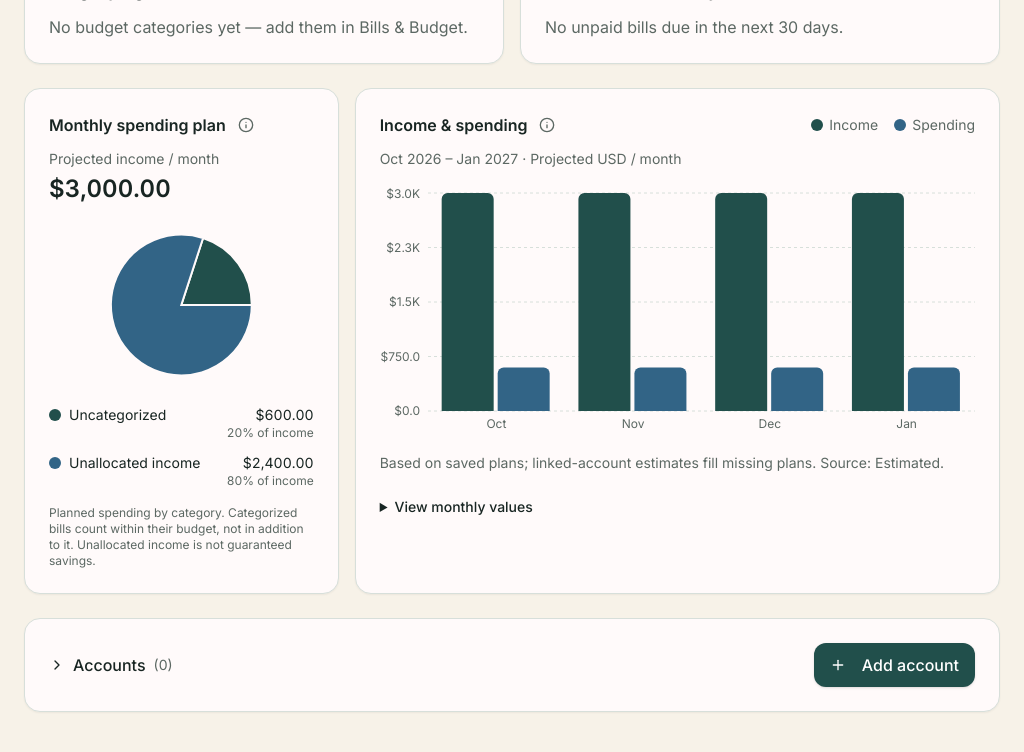
Test case: Overview charts use the active authenticated dataset; SDK fixtures › shows row-four allocation and four projected months without doubling manual and imported figures
(page scrolled)
Check: the text "$3,000.00" is shown, box [49,174,171,203]
Check: the text "$600.00" is shown, box [256,406,314,423]
What coordinates should you click on to do the following:
click the heading "View monthly values"
I would click on:
 (464, 506)
Its box is [394,498,533,515].
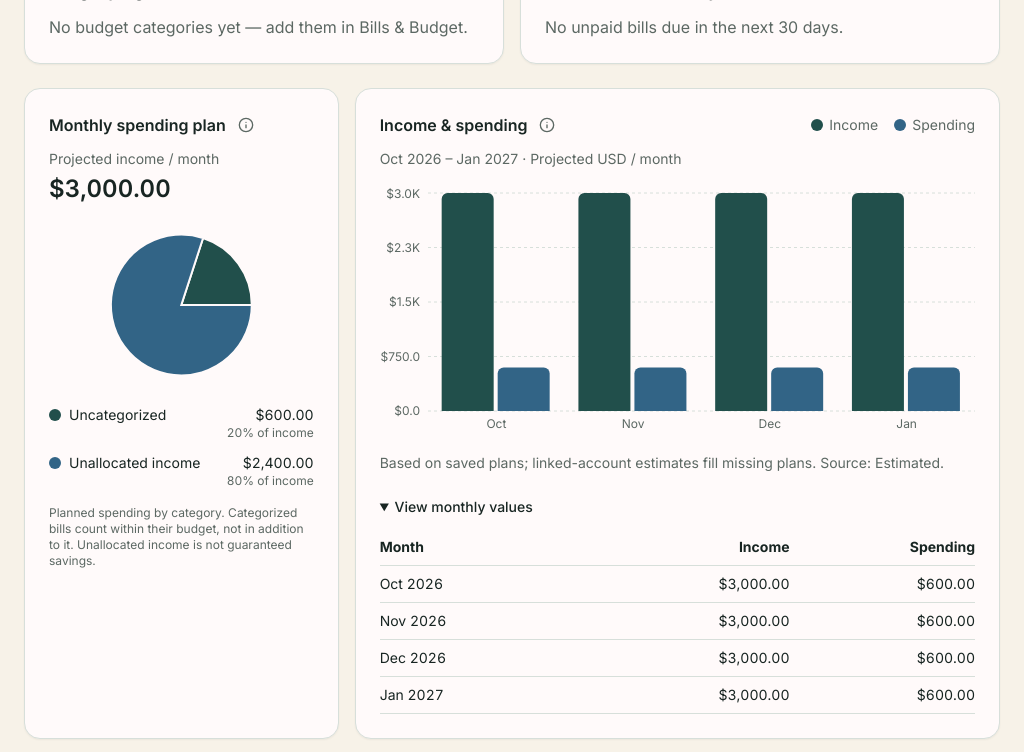
Check: the number of rows is 5, box [380,529,975,566]; [380,566,975,602]; [380,602,975,640]; [380,640,975,676]; [380,676,975,714]
Check: the text "$3,000.00" is shown 4 times, box [583,566,798,602]; [583,602,798,640]; [583,640,798,676]; [583,676,798,714]
Check: the text "$600.00" is shown 4 times, box [798,566,975,602]; [798,602,975,640]; [798,640,975,676]; [798,676,975,714]
